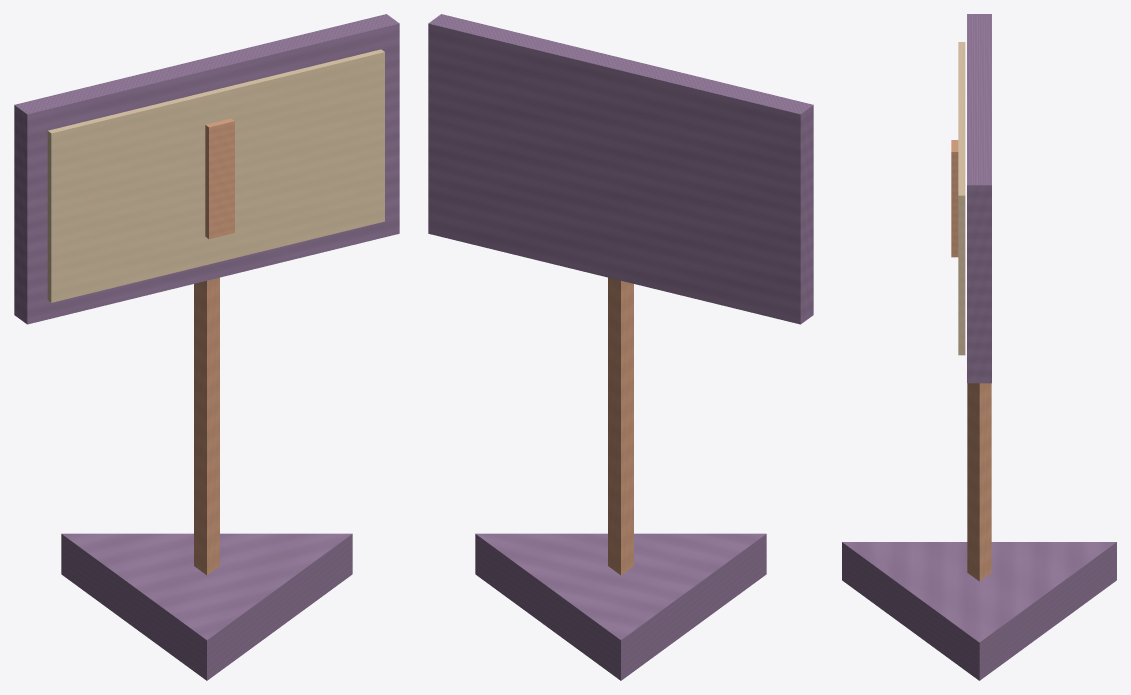
File: atlas100-s082-a11.lod2.glb
3 views of the same model, side by side, from view 1: azimuth 30°, elevation 25°; view 2: azimuth 150°, elevation 25°; view 3: azimuth 270°, elevation 25° (orthographic). The views are drawn at different scales.
Visible parts, largest first — view 1: atlas100-s082-a11:part-003, atlas100-s082-a11:part-002, atlas100-s082-a11:part-000, atlas100-s082-a11:part-001, atlas100-s082-a11:part-005; view 2: atlas100-s082-a11:part-002, atlas100-s082-a11:part-000, atlas100-s082-a11:part-001; view 3: atlas100-s082-a11:part-000, atlas100-s082-a11:part-002, atlas100-s082-a11:part-001, atlas100-s082-a11:part-003, atlas100-s082-a11:part-005.
Boxes of the visible parts, x1,y1,x2,y2 form: atlas100-s082-a11:part-003: (47,49,384,302); atlas100-s082-a11:part-002: (14,14,399,324); atlas100-s082-a11:part-000: (61,533,352,680); atlas100-s082-a11:part-001: (194,277,219,575); atlas100-s082-a11:part-005: (205,118,234,239); atlas100-s082-a11:part-002: (428,14,813,324); atlas100-s082-a11:part-000: (475,533,766,680); atlas100-s082-a11:part-001: (608,277,633,575); atlas100-s082-a11:part-000: (842,542,1116,680); atlas100-s082-a11:part-002: (967,14,991,383); atlas100-s082-a11:part-001: (967,383,991,581); atlas100-s082-a11:part-003: (958,42,965,355); atlas100-s082-a11:part-005: (951,140,958,257).
Bounding box in the file's own units: 1.15 × 1.61 × 0.7794.
3 materials, 3 textured.
